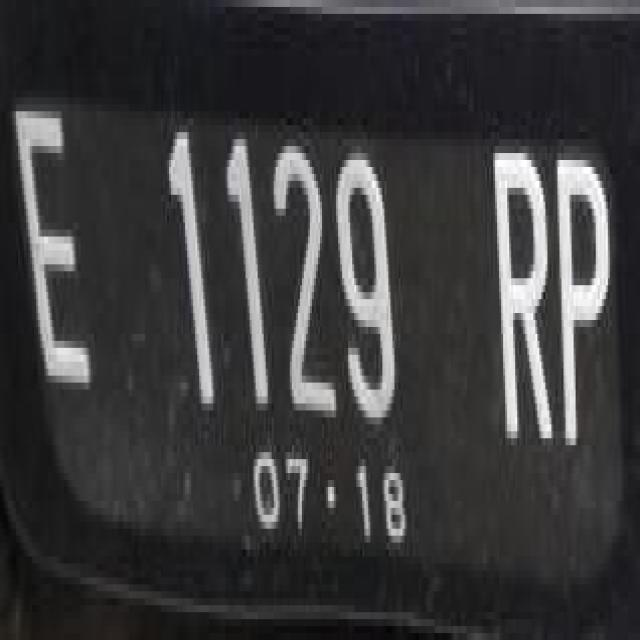1: (154, 110, 229, 439), (218, 107, 279, 439)
2: (263, 112, 344, 447)
9: (324, 115, 406, 447)
E: (6, 86, 96, 404)
P: (552, 139, 618, 482)
R: (487, 126, 562, 468)
